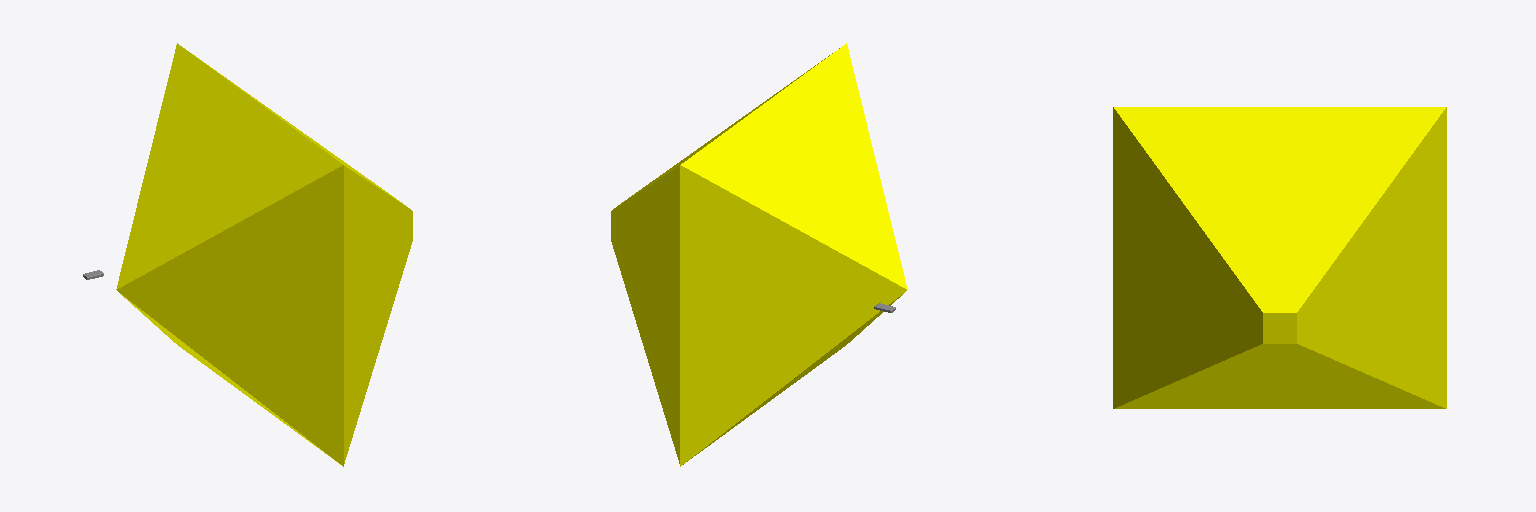
Rendered from mis_obj_OpenBlock6_HD.obj.
3 views of the same model, side by side, from view 1: azimuth 30°, elevation 25°; view 2: azimuth 150°, elevation 25°; view 3: azimuth 270°, elevation 25° (orthographic).
Visible parts, largest first — view 1: wave; view 2: wave; view 3: wave.
Boxes of the visible parts, box(x1,y1,x2,y2) form: wave: box(116, 43, 412, 466); wave: box(611, 43, 907, 466); wave: box(1113, 107, 1446, 408).
Size of the model in its own units: 3708 by 3600 by 3600.